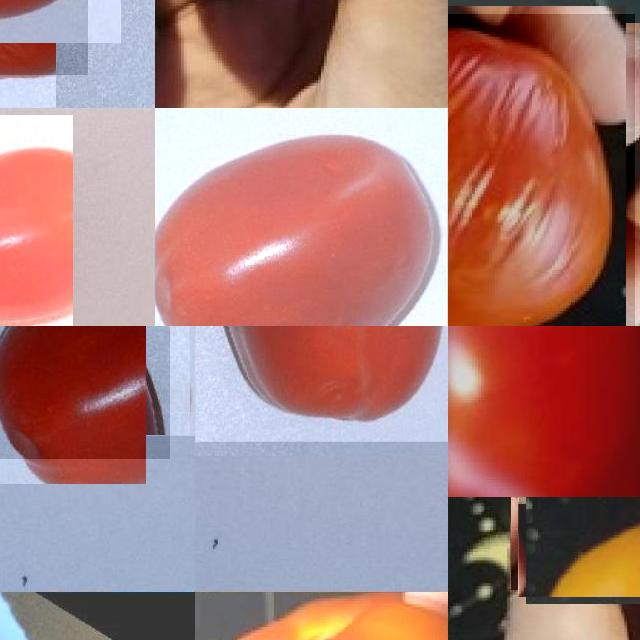1: (448, 14, 635, 326)
Fresh Tomato: (155, 108, 447, 326), (448, 326, 640, 497), (195, 326, 448, 441), (0, 326, 170, 459), (0, 115, 73, 326), (518, 497, 640, 597)
